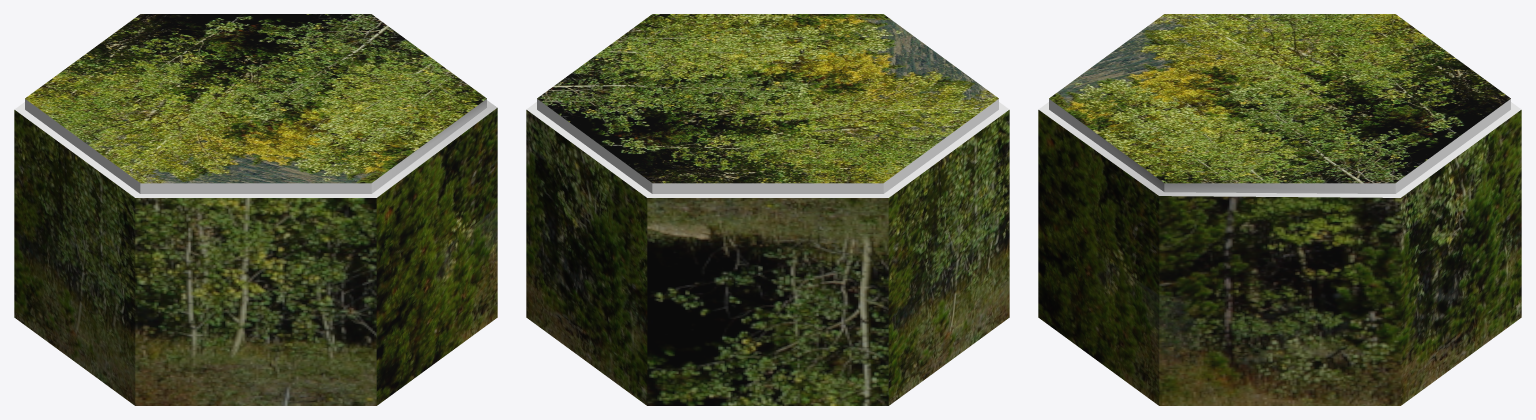
File: ForestHexagon.fbx
3 views of the same model, side by side, from view 1: azimuth 30°, elevation 25°; view 2: azimuth 150°, elevation 25°; view 3: azimuth 270°, elevation 25° (orthographic).
Parts seen in each view (by area): view 1: Cylinder; view 2: Cylinder; view 3: Cylinder.
Boxes of the visible parts, x1,y1,x2,y2 form: Cylinder: (14,14,497,405); Cylinder: (526,14,1009,405); Cylinder: (1038,14,1521,405).
Bounding box in the file's own units: 173 × 100 × 200.
